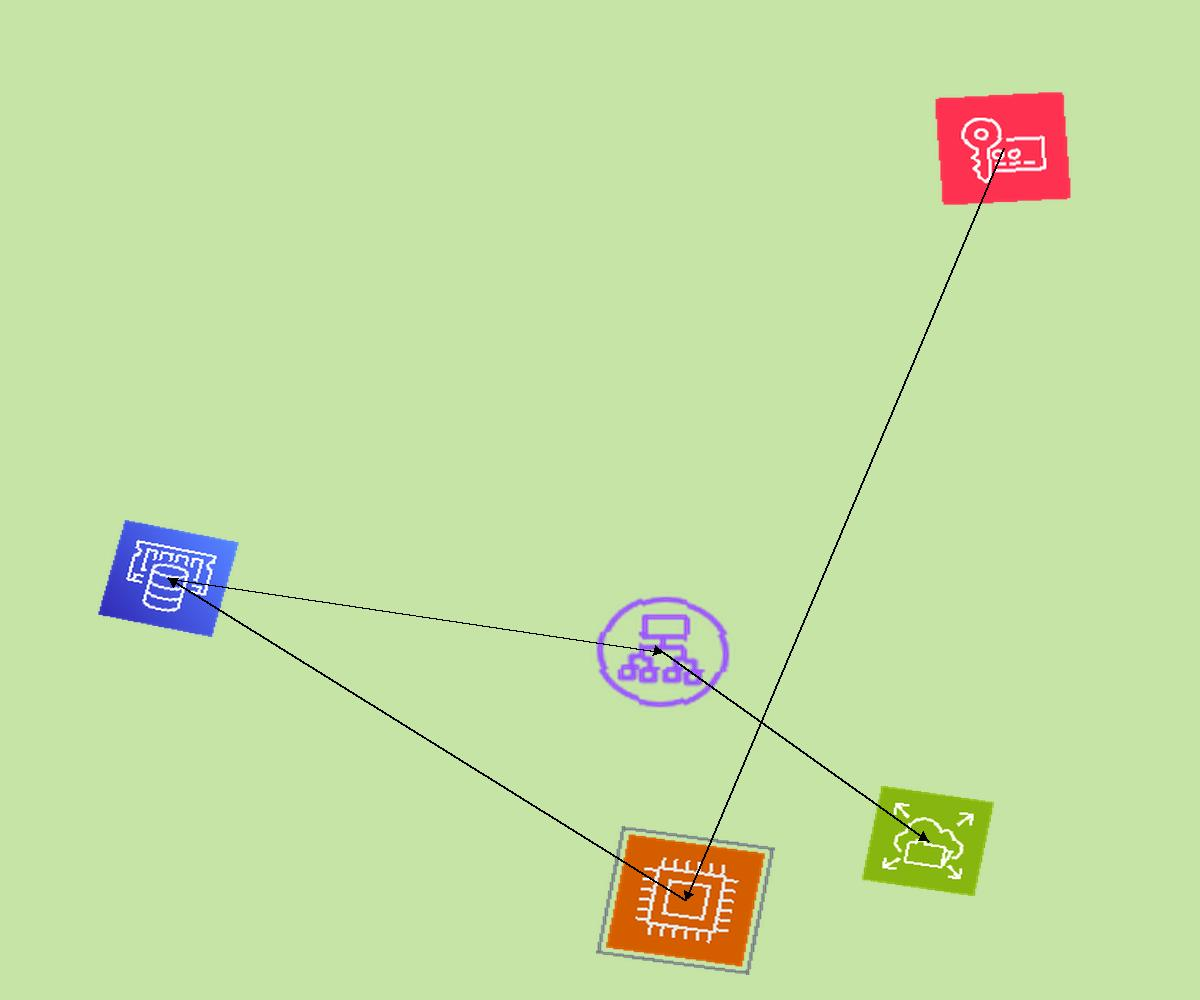AWS-Category_Compute: (596, 826, 775, 975)
AWS-EFS: (861, 785, 995, 897)
AWS-ElastiCache: (97, 519, 240, 638)
AWS-Key-Management-Service: (934, 91, 1072, 206)
AWS-Res_Elastic-Load-Balancing_Application-Load-Balancer: (585, 587, 741, 717)
